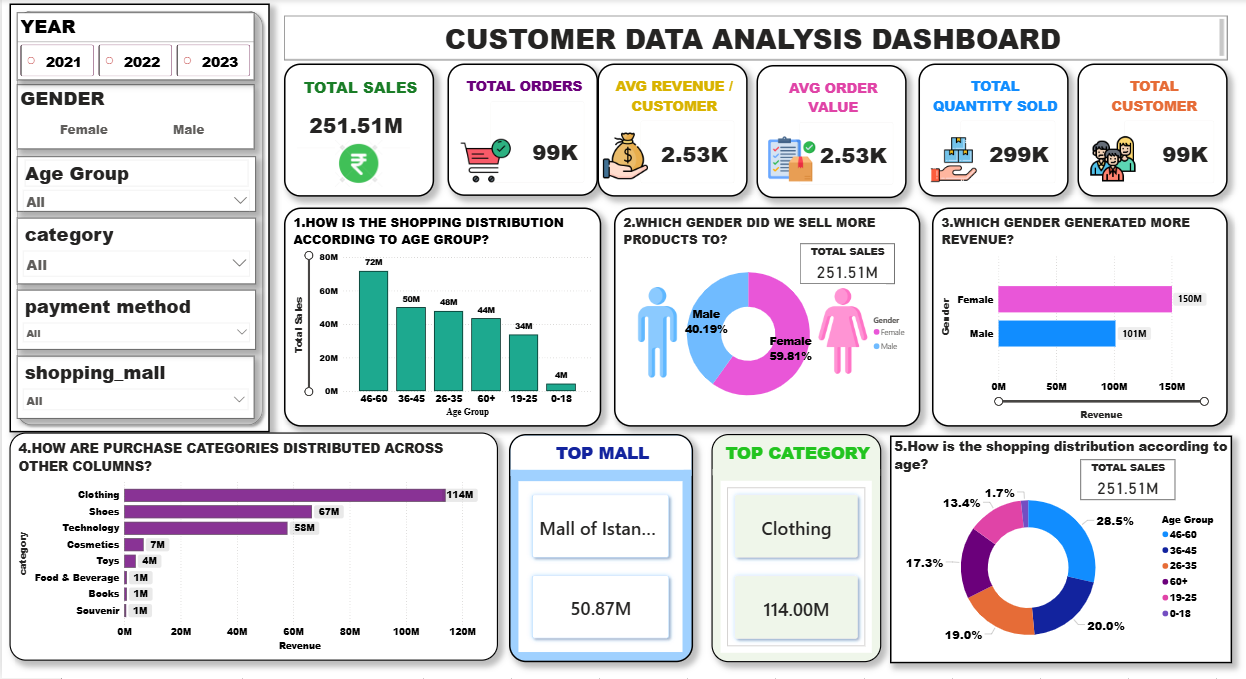

Layout of this report page (visuals, bound fields, positions):
{"tool":"powerbi","page":{"name":"DASHBOARD 1","canvas":[2200,1200],"ordinal":0},"visuals":[{"type":"shape","box":[13.5,8.1,460.2,758],"z":0},{"type":"slicer","title":"GENDER","fields":{"Values":["project_customer_segmentation customer.gender"]},"box":[27.1,151.6,419.6,113.7],"z":1000},{"type":"slicer","fields":{"Values":["project_customer_segmentation customer.Age Group"]},"box":[27.1,278.8,422.3,97.5],"z":2000},{"type":"slicer","fields":{"Values":["project_customer_segmentation customer.category"]},"box":[27.1,387.1,422.3,116.4],"z":3000},{"type":"slicer","fields":{"Values":["project_customer_segmentation customer.shopping_mall"]},"box":[27.1,630.8,419.6,111],"z":4000},{"type":"slicer","fields":{"Values":["project_customer_segmentation customer.payment_method"]},"box":[27.1,514.4,422.3,105.6],"z":5000},{"type":"advancedSlicerVisual","title":"YEAR","fields":{"Values":["project_customer_segmentation customer.Year"]},"box":[27.1,24.4,419.6,119.1],"z":6000},{"type":"textbox","box":[498.1,29.8,1667.6,78.5],"z":7000},{"type":"cardVisual","title":"TOP CATEGORY","fields":{"Data":["Min(project_customer_segmentation customer.category)","project_customer_segmentation customer.Total Sales"]},"box":[1253.6,767.9,300,403.6],"z":8000},{"type":"cardVisual","title":"TOP MALL","fields":{"Data":["Min(project_customer_segmentation customer.shopping_mall)","project_customer_segmentation customer.Total Sales"]},"box":[896.4,767.9,325,403.6],"z":9000},{"type":"donutChart","title":"2.WHICH GENDER DID WE SELL MORE PRODUCTS TO?","fields":{"Y":["Sum(project_customer_segmentation customer.quantity)"],"Series":["project_customer_segmentation customer.Gender"]},"box":[1082.9,368.2,541.4,387.1],"z":10000},{"type":"card","title":"TOTAL SALES","fields":{"Values":["project_customer_segmentation customer.Total Sales"]},"box":[1410.3,432.1,167,71.6],"z":11000},{"type":"barChart","title":"3.WHICH GENDER GENERATED MORE REVENUE?","fields":{"Category":["project_customer_segmentation customer.gender"],"Y":["project_customer_segmentation customer.Revenue"]},"box":[1643.3,368.2,522.5,387.1],"z":12000},{"type":"clusteredColumnChart","title":"1.HOW IS THE SHOPPING DISTRIBUTION ACCORDING TO AGE GROUP?","fields":{"Category":["project_customer_segmentation customer.Age Group"],"Y":["project_customer_segmentation customer.Total Sales"]},"box":[498.1,368.2,560.4,387.1],"z":13000},{"type":"clusteredBarChart","title":"4.HOW ARE PURCHASE CATEGORIES DISTRIBUTED ACROSS OTHER COLUMNS?","fields":{"Category":["project_customer_segmentation customer.category"],"Y":["project_customer_segmentation customer.Revenue"]},"box":[13.5,767,863.6,403.4],"z":14000},{"type":"image","box":[1046.7,500,226.7,160],"z":15000},{"type":"image","box":[1411.4,502.9,151.4,165.7],"z":16000},{"type":"cardVisual","title":"TOTAL ORDERS","fields":{"Data":["project_customer_segmentation customer.Total Orders"]},"box":[788.6,114.3,265.7,234.3],"z":17000},{"type":"cardVisual","title":"AVG ORDER VALUE","fields":{"Data":["project_customer_segmentation customer.Avg Order Value"]},"box":[1334.6,116.4,265.3,235.5],"z":18000},{"type":"cardVisual","title":"AVG REVENUE / CUSTOMER","fields":{"Data":["project_customer_segmentation customer.Avg Revenue Per Customer"]},"box":[1053.1,113.7,265.3,235.5],"z":19000},{"type":"cardVisual","title":"TOTAL QUANTITY SOLD","fields":{"Data":["project_customer_segmentation customer.Total Quantity Sold"]},"box":[1618.9,113.7,265.3,235.5],"z":20000},{"type":"cardVisual","title":"TOTAL CUSTOMER","fields":{"Data":["project_customer_segmentation customer.Total Customers"]},"box":[1900.4,113.7,265.3,235.5],"z":21000},{"type":"cardVisual","title":"TOTAL SALES","fields":{"Data":["project_customer_segmentation customer.Total Sales"]},"box":[498.1,113.7,265.3,235.5],"z":22000},{"type":"image","box":[545.7,248.6,168.6,82.9],"z":23000},{"type":"image","box":[797.1,240,114,88.6],"z":24000},{"type":"image","box":[1045.7,237.1,114.3,82.9],"z":25000},{"type":"image","box":[1340,240,114,82.9],"z":26000},{"type":"image","box":[1625.7,240,114.3,82.9],"z":27000},{"type":"image","box":[1905.7,240,114.3,82.9],"z":28000},{"type":"donutChart","title":"5.How is the shopping distribution according to age?","fields":{"Y":["project_customer_segmentation customer.Revenue"],"Category":["project_customer_segmentation customer.Age Group","project_customer_segmentation customer.payment_method"]},"box":[1568.3,771.6,604.4,403],"z":29000},{"type":"card","title":"TOTAL SALES","fields":{"Values":["project_customer_segmentation customer.Total Sales"]},"box":[1906.1,813.9,167,71.6],"z":30000}]}

Visuals, with their boxes in screenshot pixels (x1, y1, x2, y2), scaled from the page's 2200x1200 canvas onto the 1246x679 screenshot:
shape: region(8, 5, 268, 433)
"GENDER" slicer: region(15, 86, 253, 150)
slicer - project_customer_segmentation customer.Age Group: region(15, 158, 255, 213)
slicer - project_customer_segmentation customer.category: region(15, 219, 255, 285)
slicer - project_customer_segmentation customer.shopping_mall: region(15, 357, 253, 420)
slicer - project_customer_segmentation customer.payment_method: region(15, 291, 255, 351)
"YEAR" advancedSlicerVisual: region(15, 14, 253, 81)
textbox: region(282, 17, 1227, 61)
"TOP CATEGORY" cardVisual: region(710, 435, 880, 663)
"TOP MALL" cardVisual: region(508, 435, 692, 663)
"2.WHICH GENDER DID WE SELL MORE PRODUCTS TO?" donutChart: region(613, 208, 920, 427)
"TOTAL SALES" card: region(799, 244, 893, 285)
"3.WHICH GENDER GENERATED MORE REVENUE?" barChart: region(931, 208, 1227, 427)
"1.HOW IS THE SHOPPING DISTRIBUTION ACCORDING TO AGE GROUP?" clusteredColumnChart: region(282, 208, 599, 427)
"4.HOW ARE PURCHASE CATEGORIES DISTRIBUTED ACROSS OTHER COLUMNS?" clusteredBarChart: region(8, 434, 497, 662)
image: region(593, 283, 721, 373)
image: region(799, 285, 885, 378)
"TOTAL ORDERS" cardVisual: region(447, 65, 597, 197)
"AVG ORDER VALUE" cardVisual: region(756, 66, 906, 199)
"AVG REVENUE / CUSTOMER" cardVisual: region(596, 64, 747, 198)
"TOTAL QUANTITY SOLD" cardVisual: region(917, 64, 1067, 198)
"TOTAL CUSTOMER" cardVisual: region(1076, 64, 1227, 198)
"TOTAL SALES" cardVisual: region(282, 64, 432, 198)
image: region(309, 141, 405, 188)
image: region(451, 136, 516, 186)
image: region(592, 134, 657, 181)
image: region(759, 136, 823, 183)
image: region(921, 136, 985, 183)
image: region(1079, 136, 1144, 183)
"5.How is the shopping distribution according to age?" donutChart: region(888, 437, 1231, 665)
"TOTAL SALES" card: region(1080, 461, 1174, 501)
